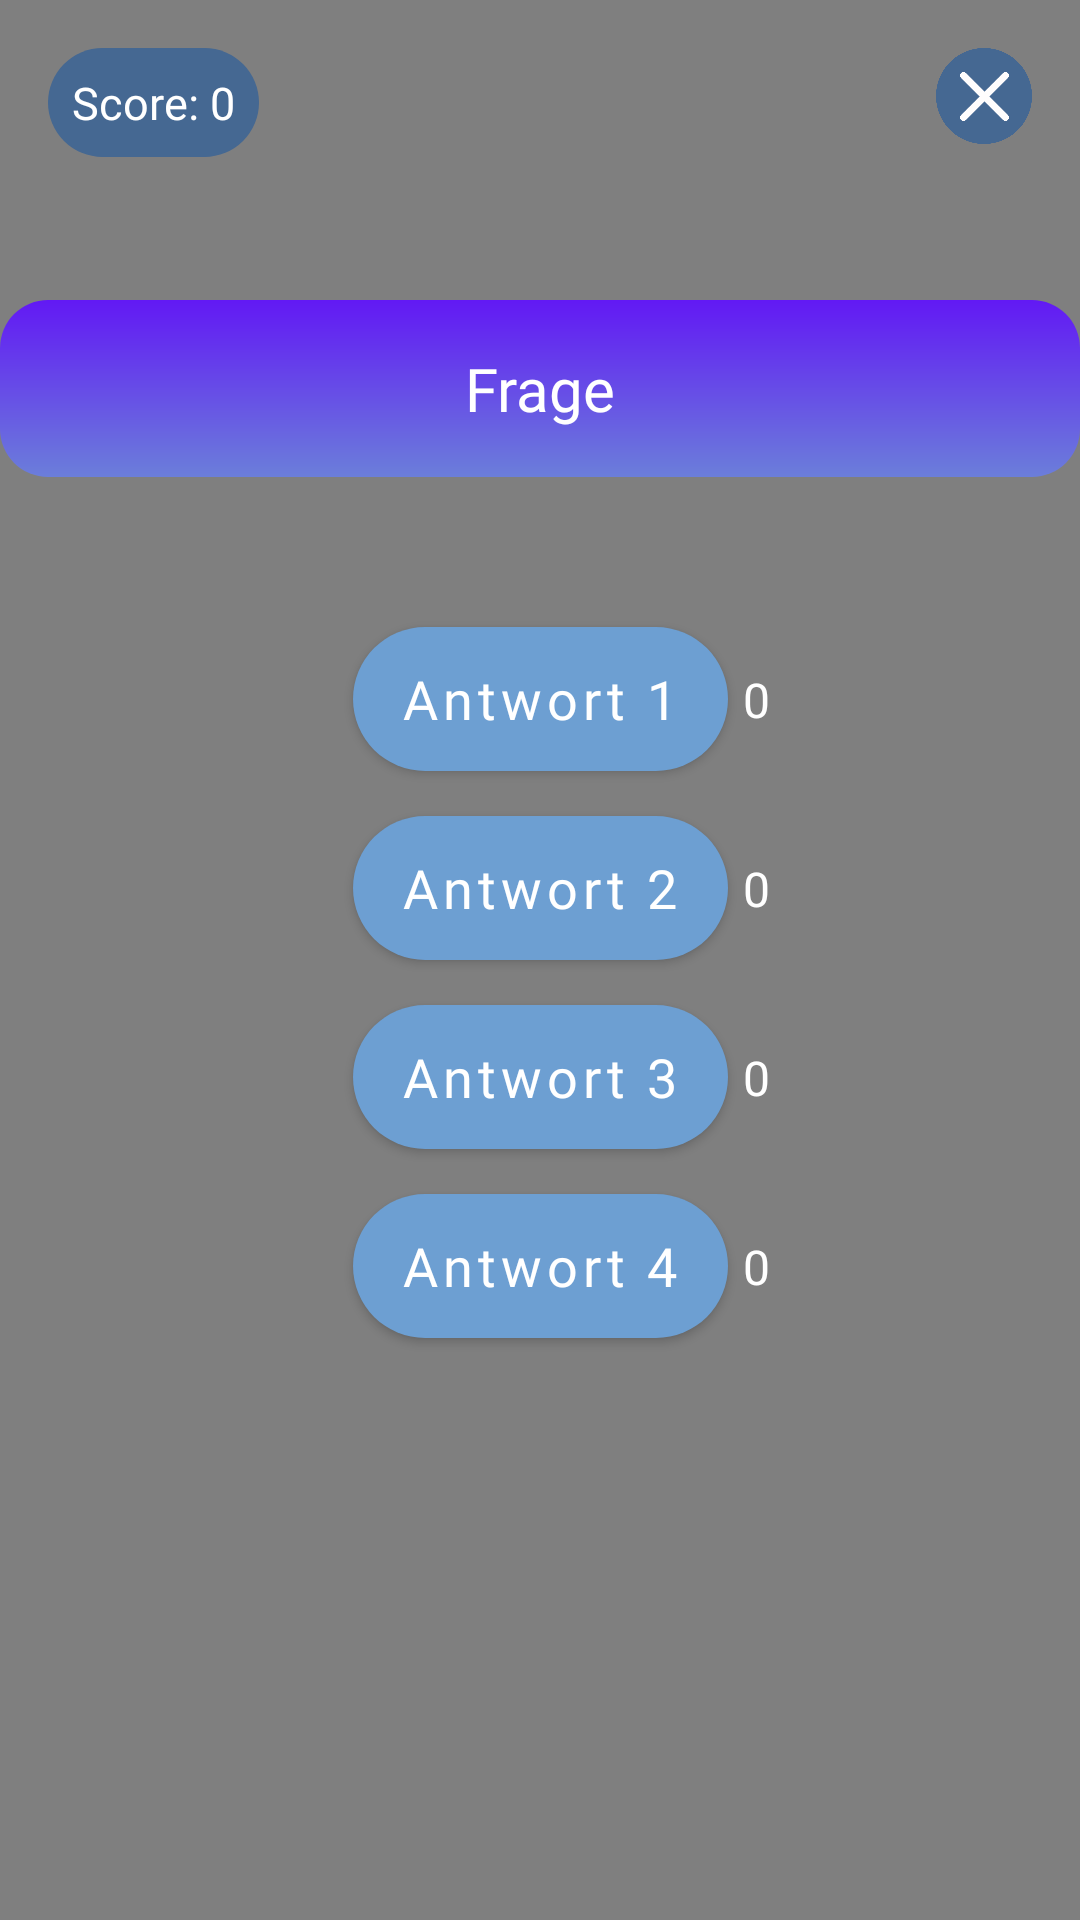

Named icons in this screenshot (1080×1920) and their centers, (x,y):
close: (984,96)
